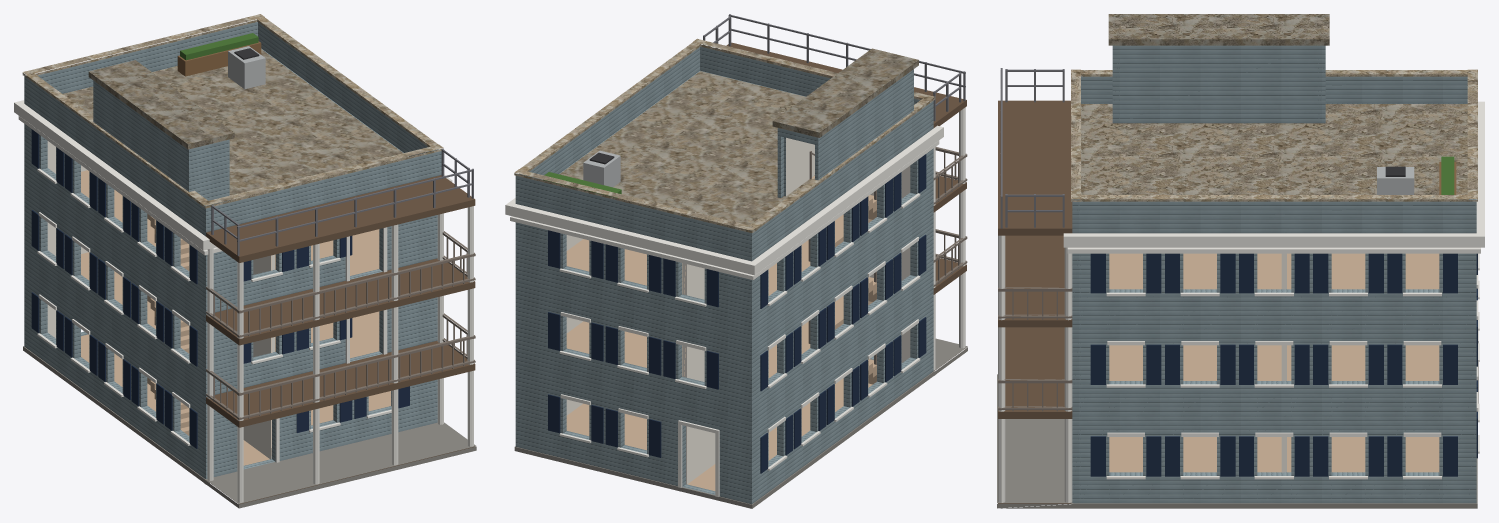
File: ns-triple-decker.towns-v2.lod0.glb
3 views of the same model, side by side, from view 1: azimuth 30°, elevation 25°; view 2: azimuth 150°, elevation 25°; view 3: azimuth 270°, elevation 25° (orthographic). The views are drawn at different scales.
Visible parts, largest first — view 1: ns-triple-decker; view 2: ns-triple-decker; view 3: ns-triple-decker.
Part boxes in pixels (left/top/right/bottom): ns-triple-decker: left=14, top=14, right=476, bottom=508; ns-triple-decker: left=505, top=14, right=967, bottom=508; ns-triple-decker: left=997, top=14, right=1484, bottom=508.
Size of the model in its own units: 9.5 by 11.98 by 14.48.
Materials: 5 (2 with a texture image).
